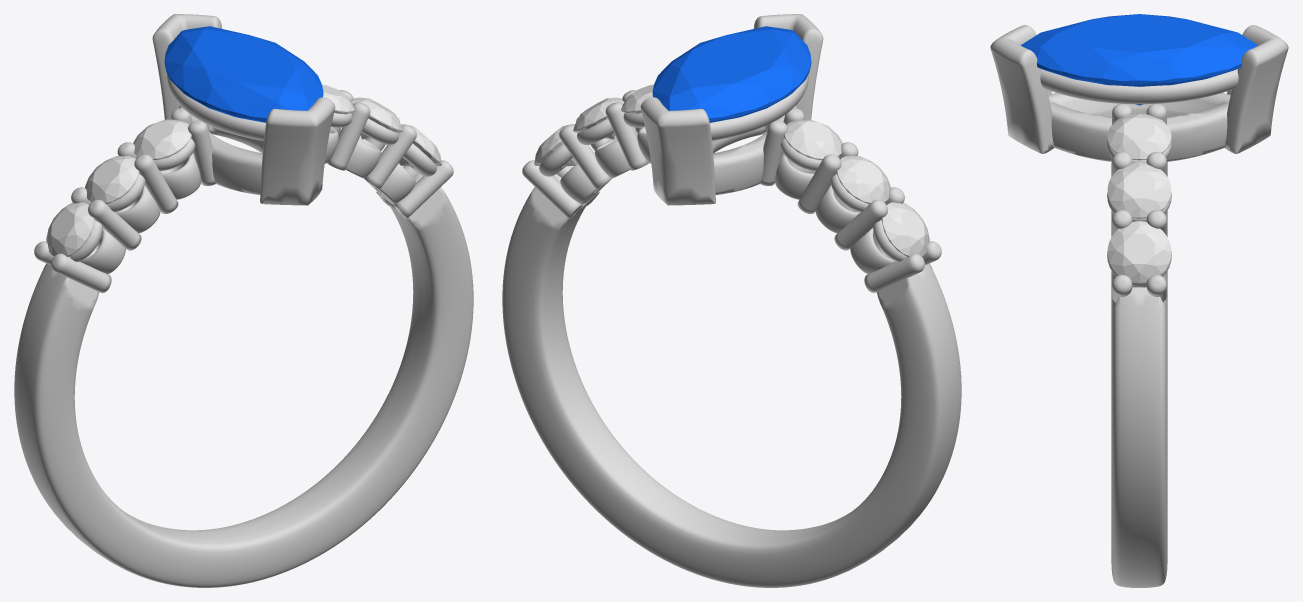
File: bluesapphire-marquise-platinum-protectededges2prongs-straightband-7stone.glb
3 renders of one model, left to right at view 1: azimuth 30°, elevation 25°; view 2: azimuth 150°, elevation 25°; view 3: azimuth 270°, elevation 25°, orthographic. The views are drawn at different scales.
Visible parts, largest first — view 1: metal, stone, side, side.003, side.004, side.006; view 2: metal, stone, side, side.003, side.004, side.006; view 3: metal, stone, side.005, side.006, side.007.
Part boxes in pixels (left/top/right/bottom): metal: left=14, top=14, right=473, bottom=587; stone: left=164, top=26, right=323, bottom=122; side: left=46, top=202, right=94, bottom=256; side.003: left=85, top=156, right=139, bottom=203; side.004: left=133, top=119, right=191, bottom=160; side.006: left=351, top=97, right=402, bottom=139; metal: left=502, top=14, right=961, bottom=587; stone: left=652, top=26, right=811, bottom=122; side: left=881, top=202, right=929, bottom=256; side.003: left=836, top=156, right=890, bottom=203; side.004: left=784, top=119, right=842, bottom=160; side.006: left=573, top=97, right=624, bottom=139; metal: left=990, top=25, right=1288, bottom=587; stone: left=1020, top=14, right=1258, bottom=105; side.005: left=1107, top=221, right=1171, bottom=282; side.006: left=1107, top=162, right=1171, bottom=218; side.007: left=1107, top=113, right=1171, bottom=160.
Size of the model in its own units: 20.5 by 22.94 by 11.69.
